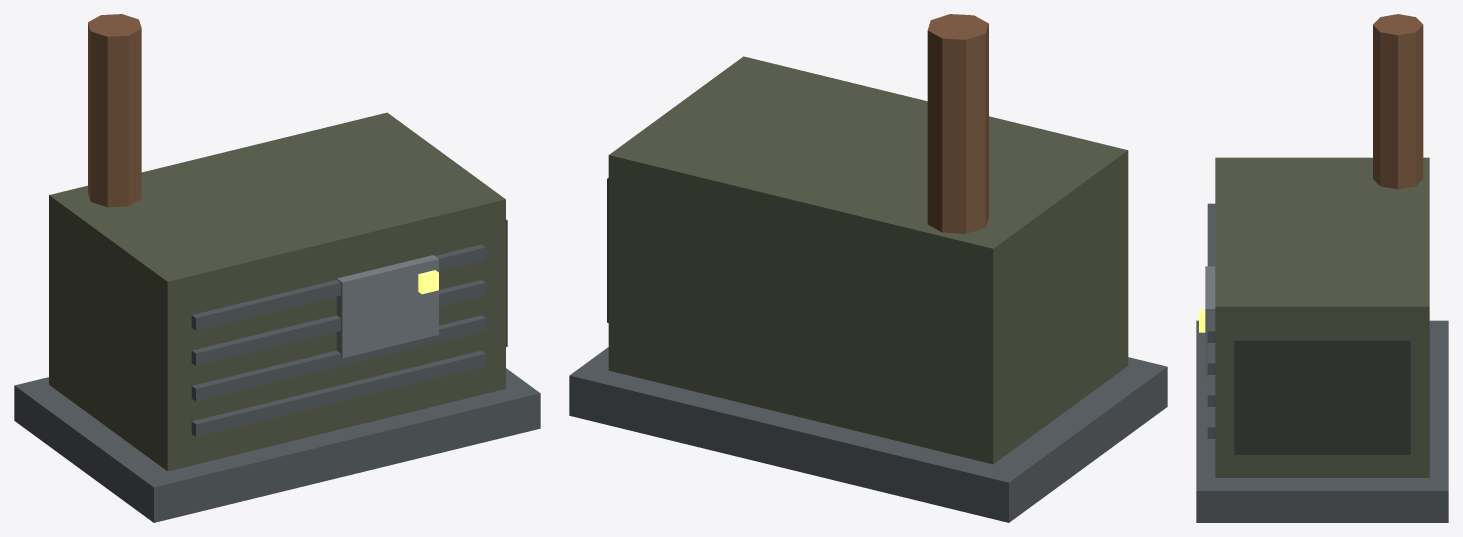
File: generator.glb
3 views of the same model, side by side, from view 1: azimuth 30°, elevation 25°; view 2: azimuth 150°, elevation 25°; view 3: azimuth 270°, elevation 25° (orthographic). The views are drawn at different scales.
Parts seen in each view (by area): view 1: body, skid, stack, panel, fin0, fin1, fin3, fin2; view 2: body, skid, stack; view 3: body, vent, skid, stack, fin3, panel.
Part boxes in pixels (left/top/right/bottom): body: left=49, top=112, right=505, bottom=471; skid: left=14, top=368, right=540, bottom=522; stack: left=88, top=14, right=141, bottom=207; panel: left=336, top=255, right=438, bottom=358; fin0: left=191, top=350, right=485, bottom=436; fin1: left=191, top=315, right=485, bottom=401; fin3: left=191, top=244, right=485, bottom=330; fin2: left=191, top=280, right=485, bottom=365; body: left=608, top=56, right=1128, bottom=464; skid: left=569, top=347, right=1167, bottom=522; stack: left=927, top=14, right=988, bottom=233; body: left=1215, top=157, right=1429, bottom=477; vent: left=1234, top=335, right=1410, bottom=454; skid: left=1196, top=320, right=1448, bottom=522; stack: left=1373, top=14, right=1423, bottom=189; fin3: left=1207, top=203, right=1215, bottom=342; panel: left=1205, top=266, right=1215, bottom=377.
Size of the model in its own units: 3.2 by 3.15 by 2.
